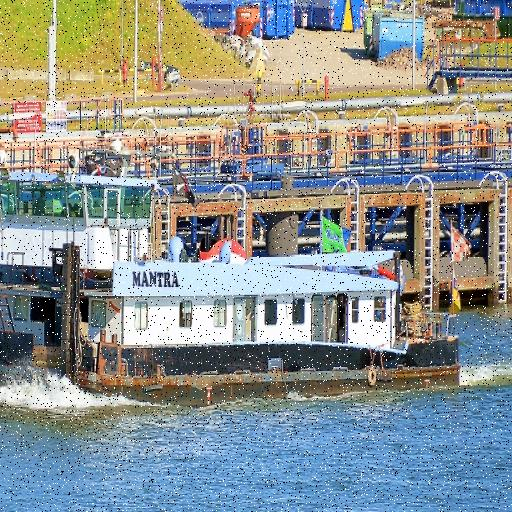tugboat: (1, 137, 465, 411)
